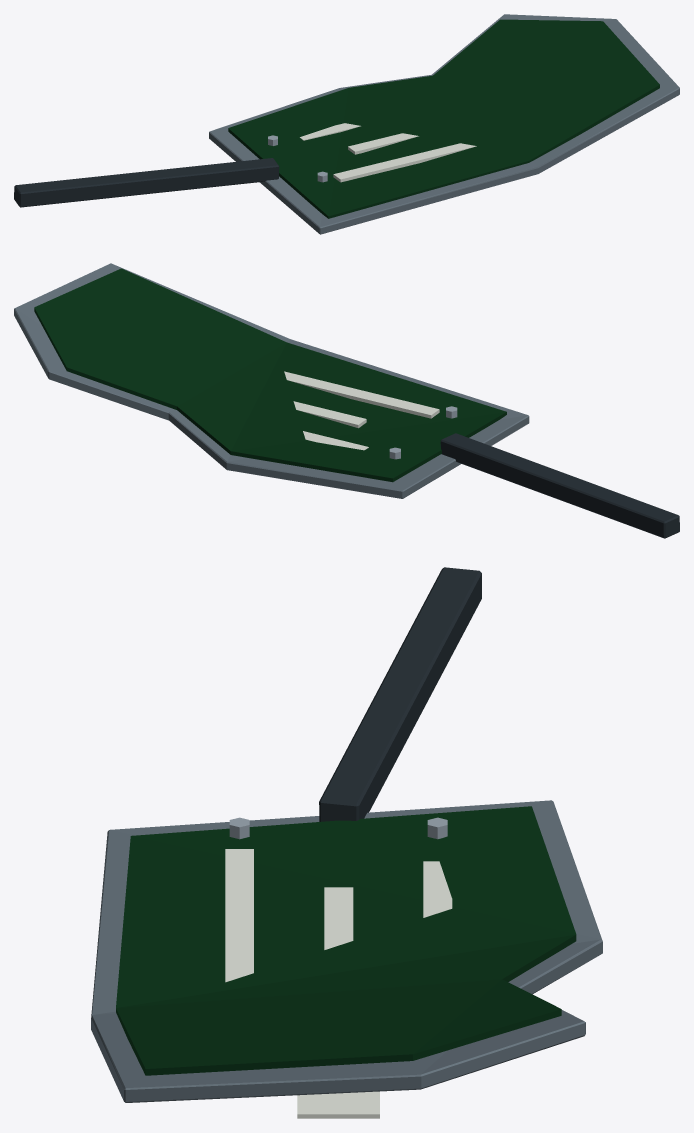
The model's file is DEBRIS_06_RoadSignFragment.obj.
3 renders of one model, top to bottom at view 1: azimuth 30°, elevation 25°; view 2: azimuth 150°, elevation 25°; view 3: azimuth 270°, elevation 25°, orthographic. The views are drawn at different scales.
Visible parts, largest first — view 1: DEBRIS_06_RoadSignFragment_Plate_Face, DEBRIS_06_RoadSignFragment_Plate, DEBRIS_06_RoadSignFragment_Pole, DEBRIS_06_RoadSignFragment_Text_Bars; view 2: DEBRIS_06_RoadSignFragment_Plate_Face, DEBRIS_06_RoadSignFragment_Plate, DEBRIS_06_RoadSignFragment_Pole, DEBRIS_06_RoadSignFragment_Text_Bars; view 3: DEBRIS_06_RoadSignFragment_Plate_Face, DEBRIS_06_RoadSignFragment_Plate, DEBRIS_06_RoadSignFragment_Pole, DEBRIS_06_RoadSignFragment_Text_Bars, DEBRIS_06_RoadSignFragment_Bolts.
Boxes of the visible parts, x1,y1,x2,y2 form: DEBRIS_06_RoadSignFragment_Plate_Face: (228, 19, 659, 218); DEBRIS_06_RoadSignFragment_Plate: (209, 14, 679, 234); DEBRIS_06_RoadSignFragment_Pole: (14, 158, 279, 207); DEBRIS_06_RoadSignFragment_Text_Bars: (300, 123, 476, 182); DEBRIS_06_RoadSignFragment_Plate_Face: (34, 268, 506, 482); DEBRIS_06_RoadSignFragment_Plate: (14, 263, 529, 498); DEBRIS_06_RoadSignFragment_Pole: (440, 433, 679, 538); DEBRIS_06_RoadSignFragment_Text_Bars: (284, 371, 439, 450); DEBRIS_06_RoadSignFragment_Plate_Face: (116, 806, 576, 1075); DEBRIS_06_RoadSignFragment_Plate: (91, 800, 602, 1102); DEBRIS_06_RoadSignFragment_Pole: (319, 567, 481, 821); DEBRIS_06_RoadSignFragment_Text_Bars: (225, 849, 452, 1118); DEBRIS_06_RoadSignFragment_Bolts: (229, 817, 447, 839).
Size of the model in its own units: 1.66 by 0.1882 by 0.62.
